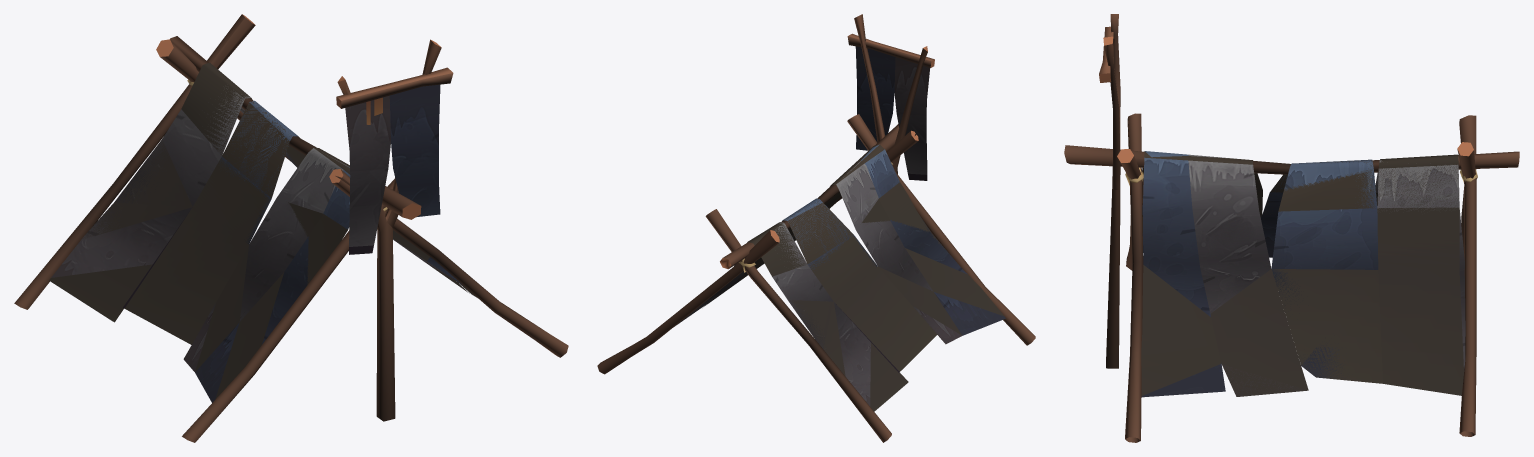
File: Tent_1G.fbx
3 views of the same model, side by side, from view 1: azimuth 30°, elevation 25°; view 2: azimuth 150°, elevation 25°; view 3: azimuth 270°, elevation 25° (orthographic). The views are drawn at different scales.
Visible parts, largest first — view 1: Tent_1G; view 2: Tent_1G; view 3: Tent_1G.
Part boxes in pixels (<box>): Tent_1G: <box>14,14,568,442</box>; Tent_1G: <box>597,14,1035,442</box>; Tent_1G: <box>1064,14,1519,442</box>.
Size of the model in its own units: 499 by 456 by 538.
